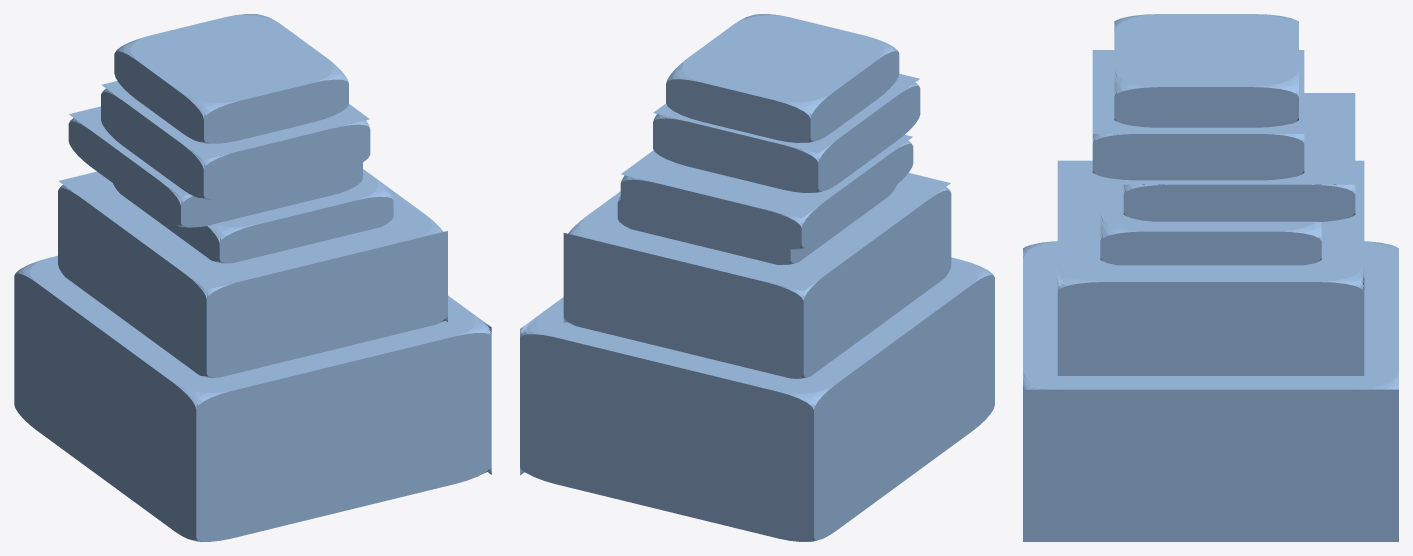
File: ENV_Rockformation.fbx
The picture shows the model from 3 angles, left to right: view 1: azimuth 30°, elevation 25°; view 2: azimuth 150°, elevation 25°; view 3: azimuth 270°, elevation 25°; orthographic projection. The views are drawn at different scales.
Visible parts, largest first — view 1: Cube.012; view 2: Cube.012; view 3: Cube.012.
Part boxes in pixels (box(x1,y1,x2,y2)): Cube.012: box(14, 14, 491, 541); Cube.012: box(520, 14, 994, 541); Cube.012: box(1023, 14, 1398, 541).
Bounding box in the file's own units: 171 × 160 × 203.
